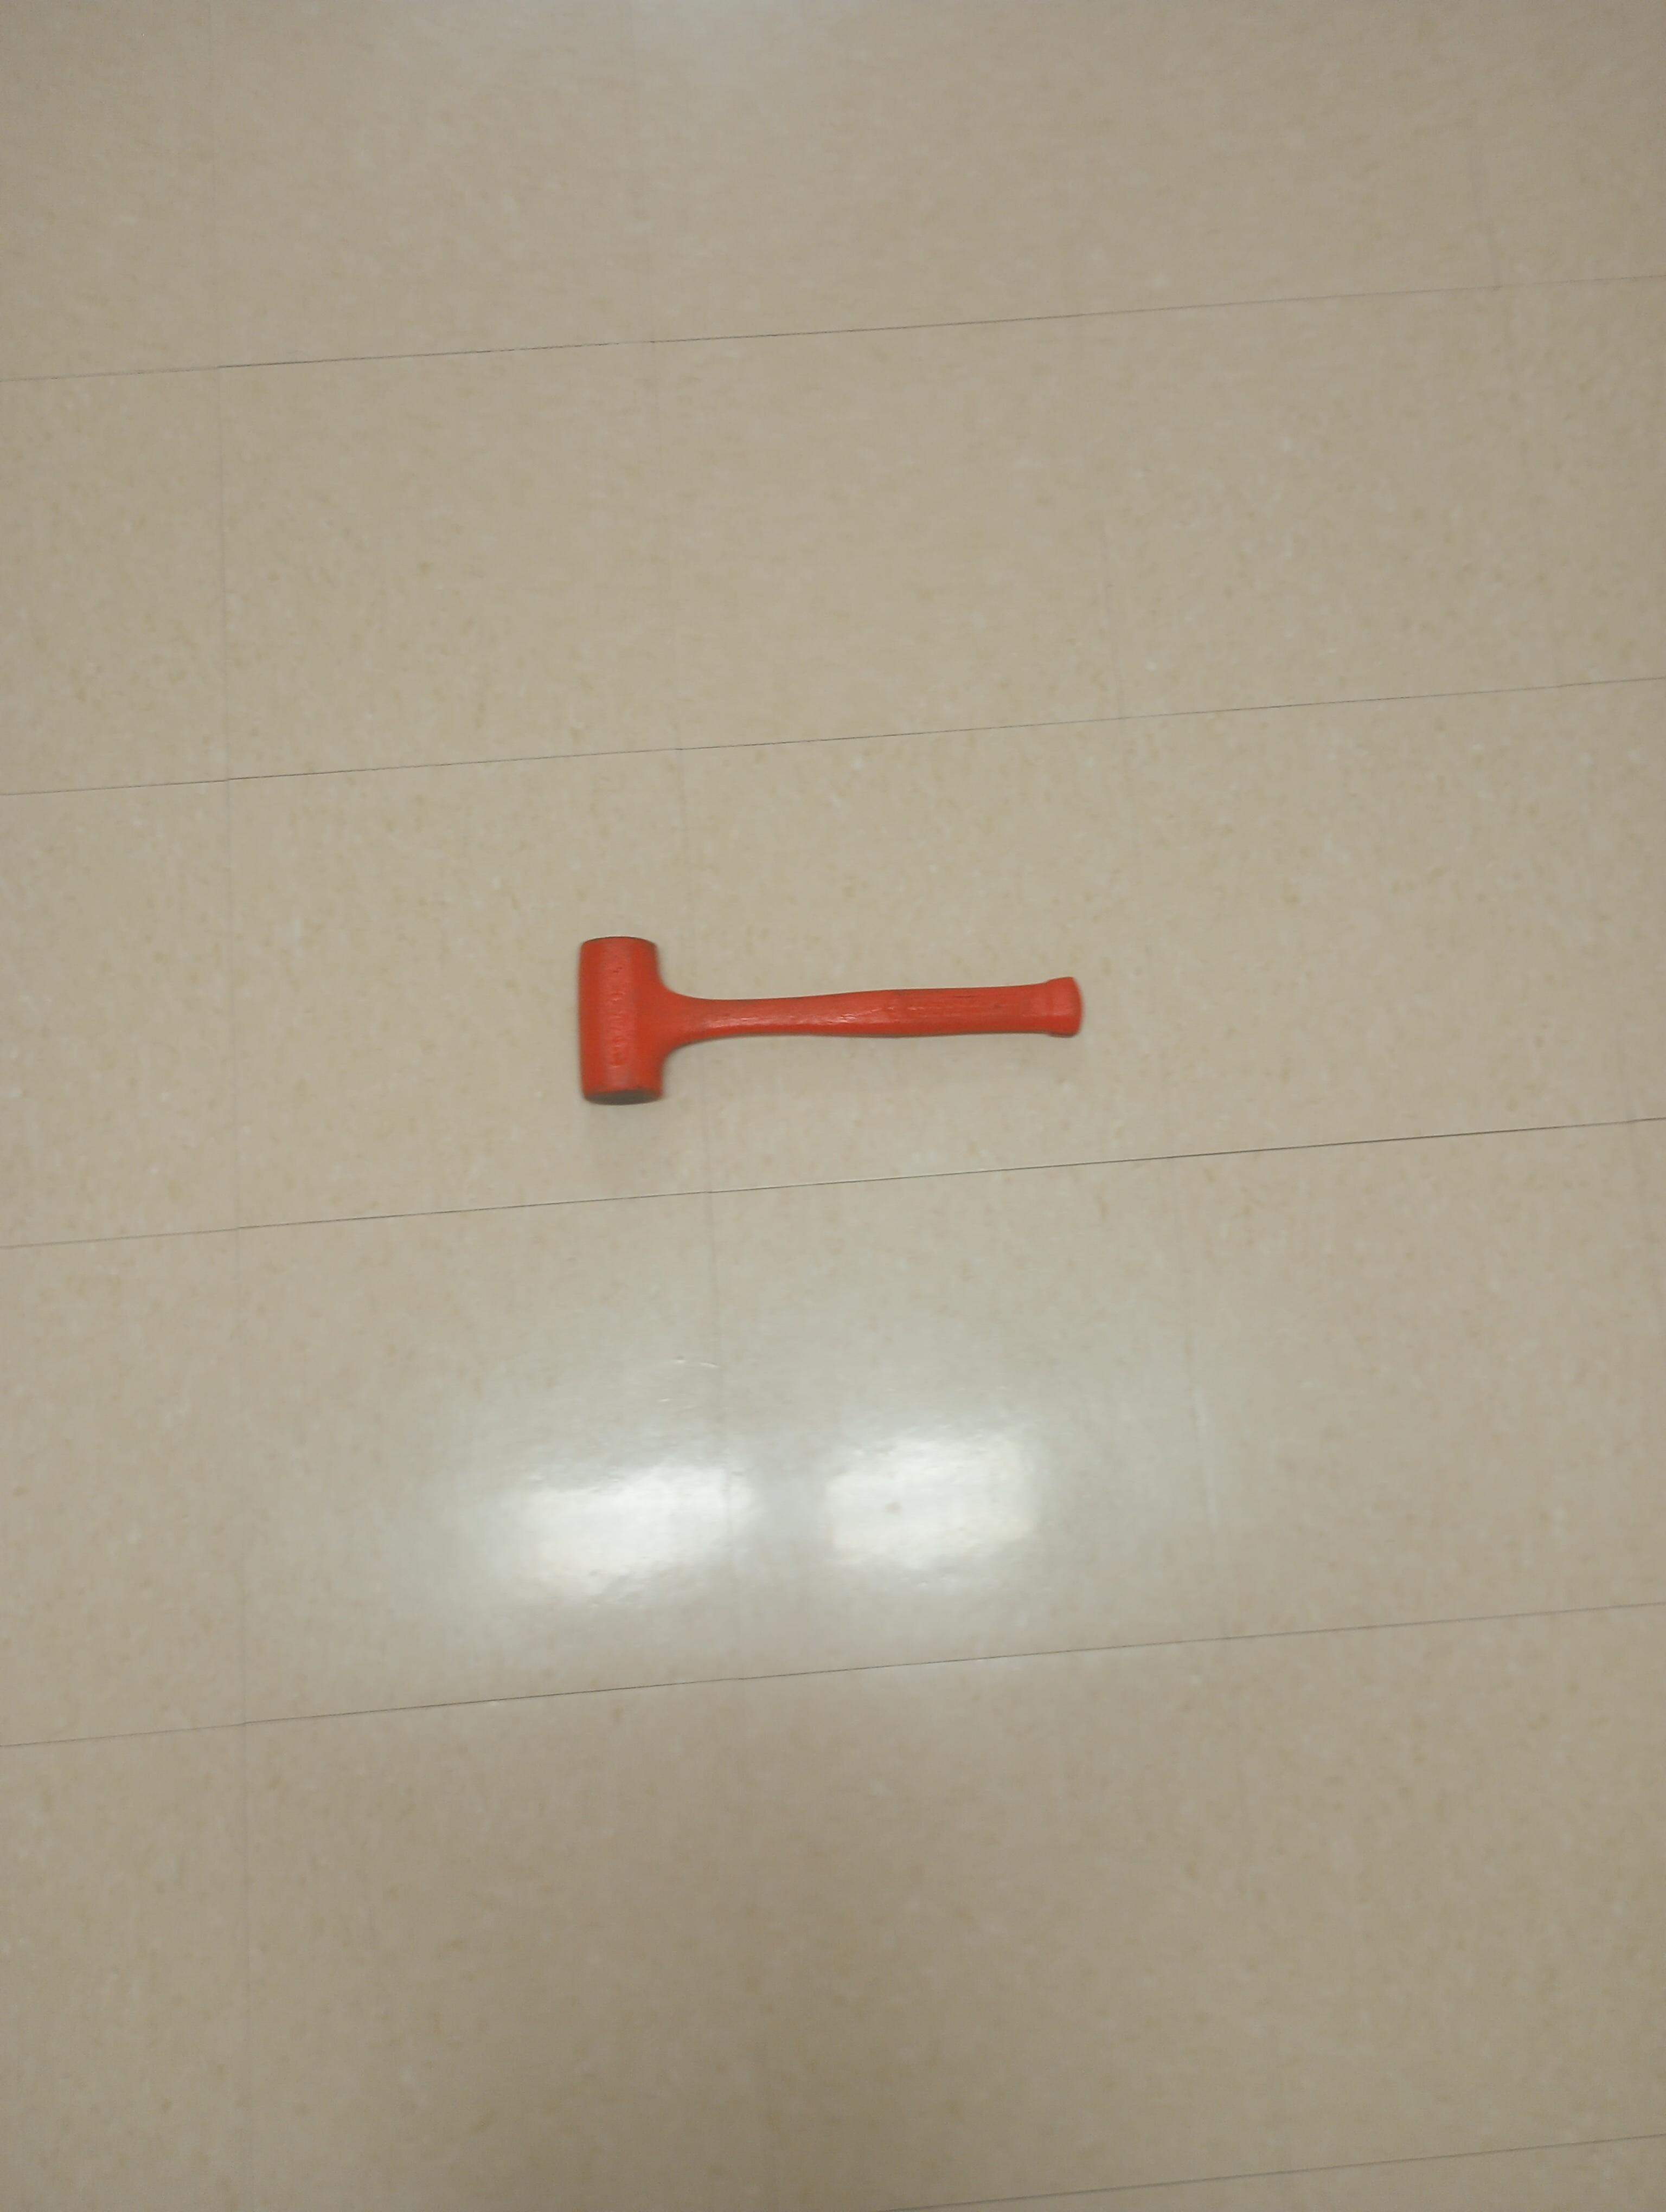bottle: (572, 922, 1089, 1117)
